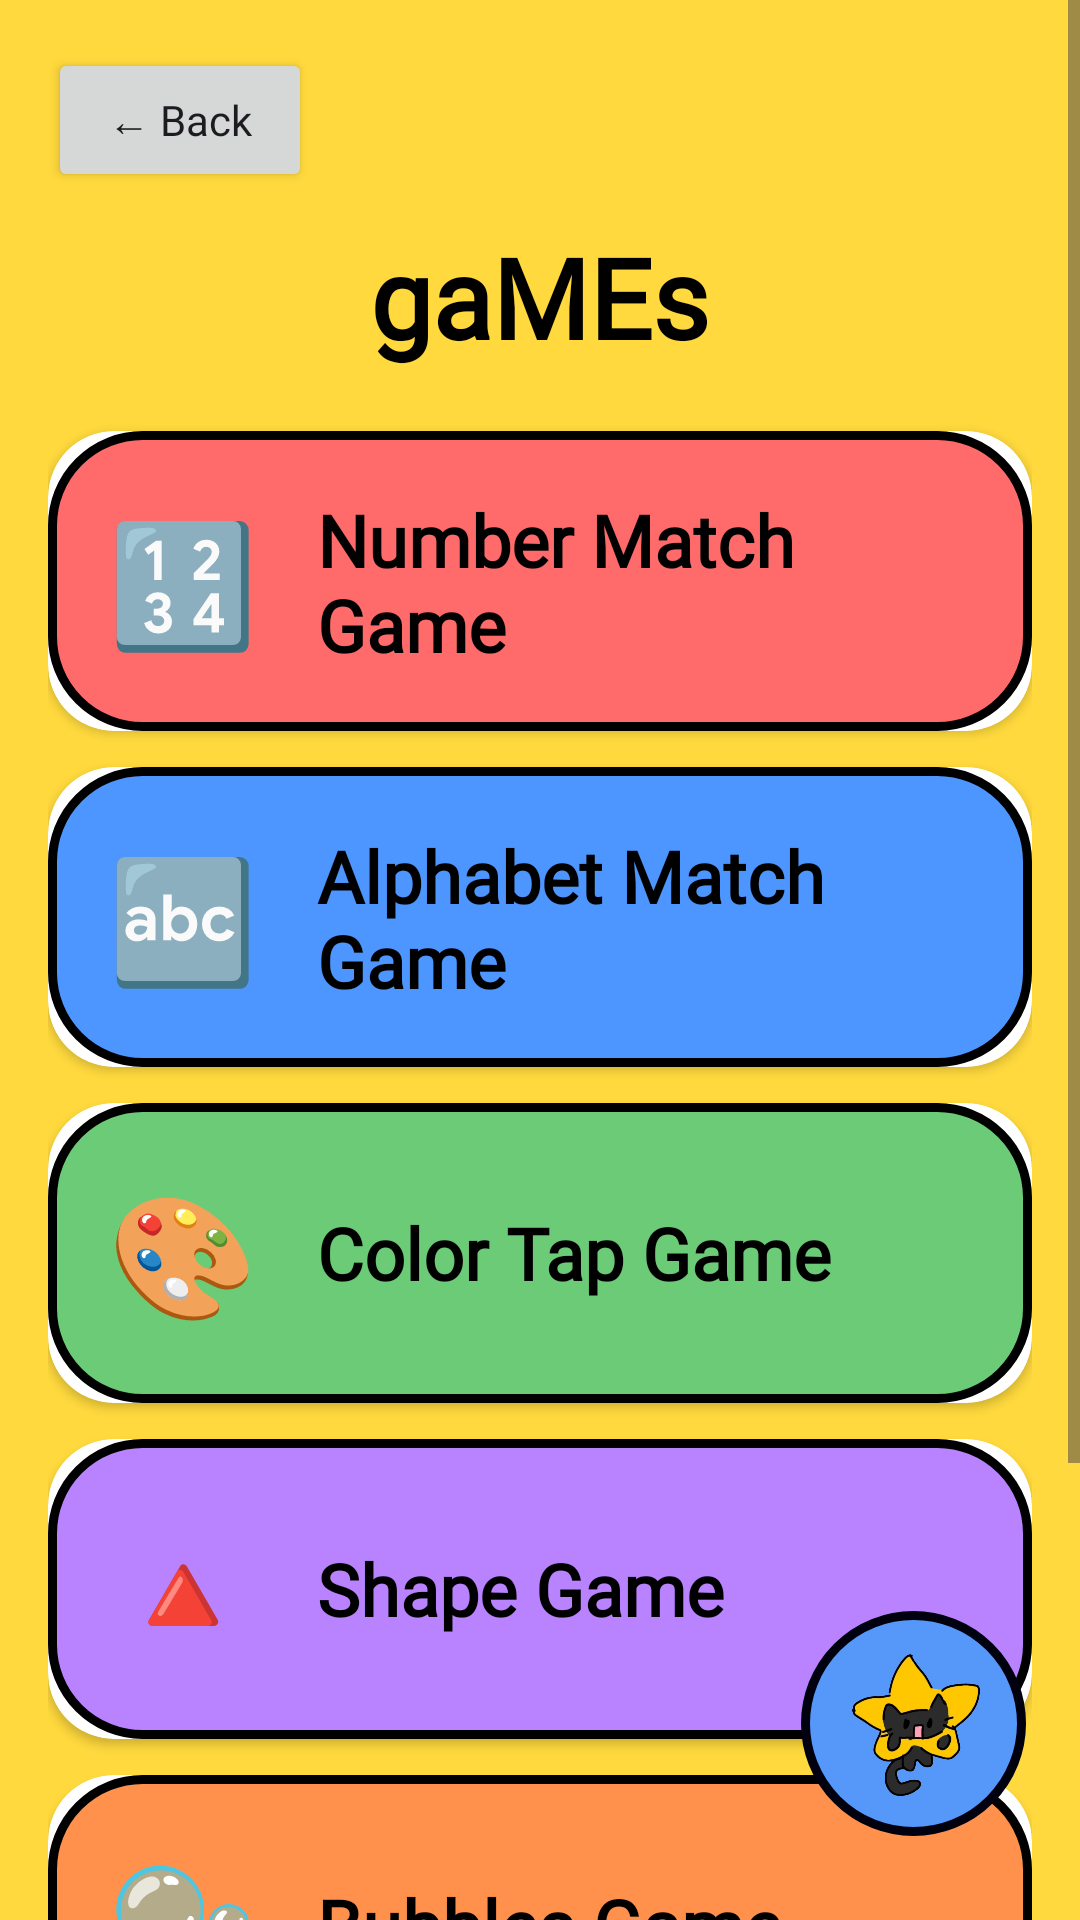

Screen size 1080*1920. Icon name, then its center in pixels as (x,y):
star: (913,1723)
